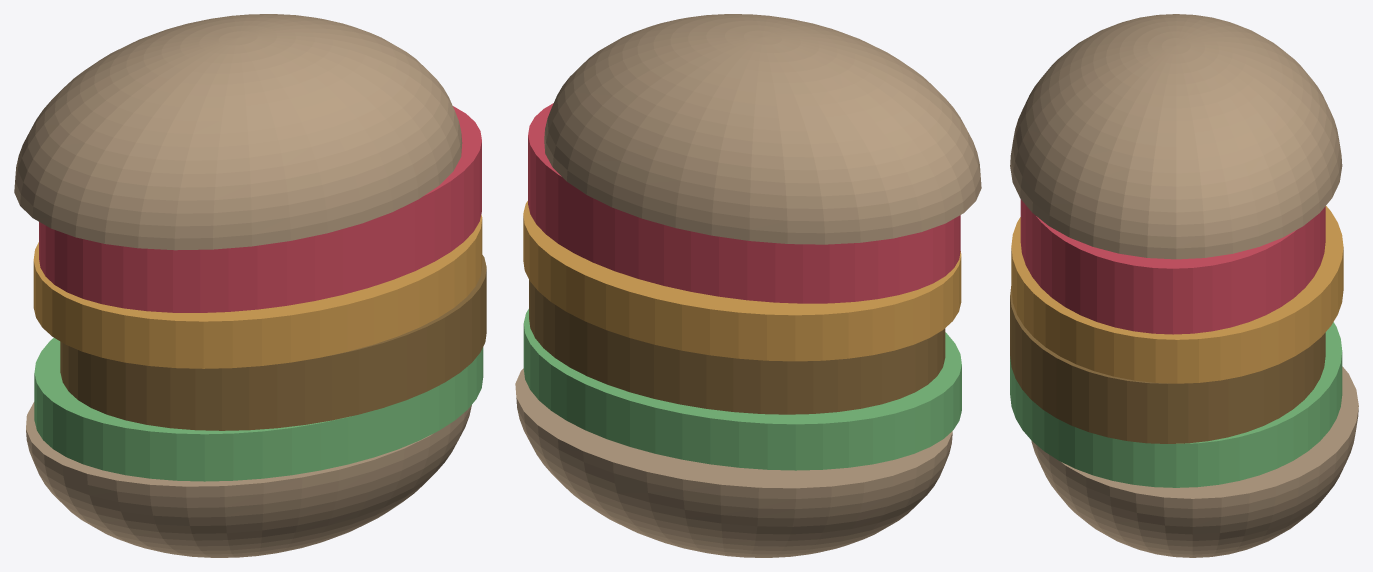
File: Cody - Cheeseburger.glb
3 renders of one model, left to right at view 1: azimuth 30°, elevation 25°; view 2: azimuth 150°, elevation 25°; view 3: azimuth 270°, elevation 25°, orthographic. The views are drawn at different scales.
Parts seen in each view (by area): view 1: Mesh_Mesh_head_geo.001_lambert2SG.001; view 2: Mesh_Mesh_head_geo.001_lambert2SG.001; view 3: Mesh_Mesh_head_geo.001_lambert2SG.001.
Boxes of the visible parts, <box> form: Mesh_Mesh_head_geo.001_lambert2SG.001: <box>14,14,486,557</box>; Mesh_Mesh_head_geo.001_lambert2SG.001: <box>515,14,981,557</box>; Mesh_Mesh_head_geo.001_lambert2SG.001: <box>1010,14,1358,557</box>.
Bounding box in the file's own units: 0.073 × 0.082 × 0.055.
